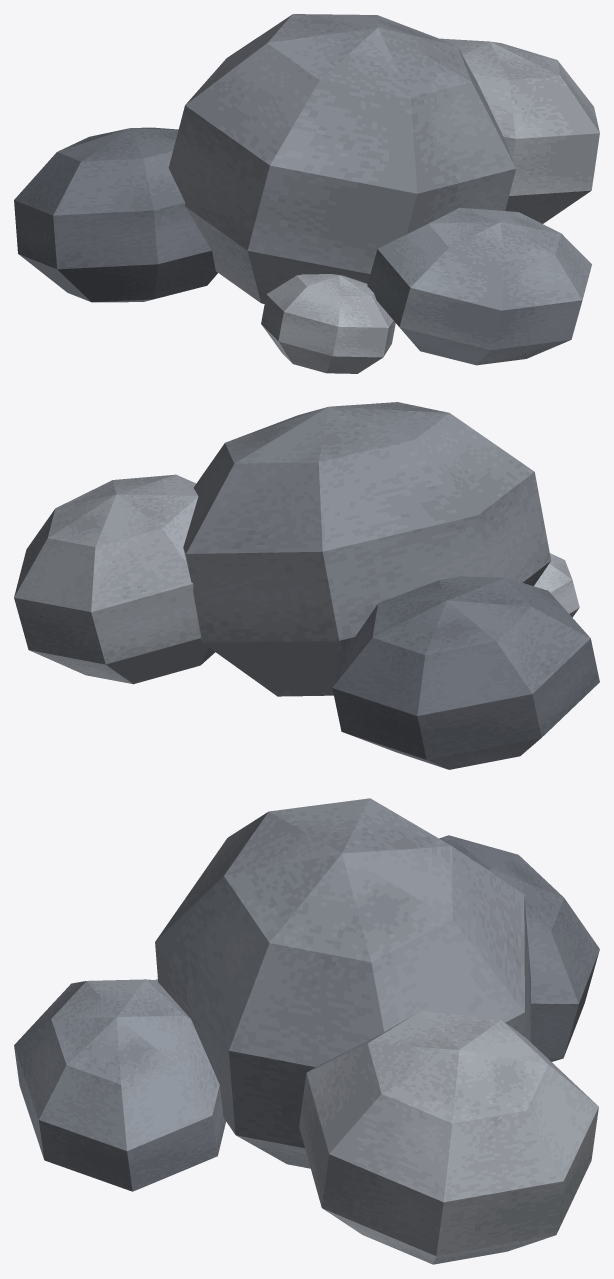
Rendered from prop_rock.glb.
3 views of the same model, one above another, from view 1: azimuth 30°, elevation 25°; view 2: azimuth 150°, elevation 25°; view 3: azimuth 270°, elevation 25° (orthographic). The views are drawn at different scales.
Parts seen in each view (by area): view 1: prop_rock; view 2: prop_rock; view 3: prop_rock.
Part boxes in pixels (x1=…): prop_rock: x1=14, y1=14, x2=599, y2=373; prop_rock: x1=14, y1=402, x2=599, y2=769; prop_rock: x1=14, y1=798, x2=599, y2=1264.
Size of the model in its own units: 1.97 by 0.9012 by 1.55.
1 material, 1 textured.
